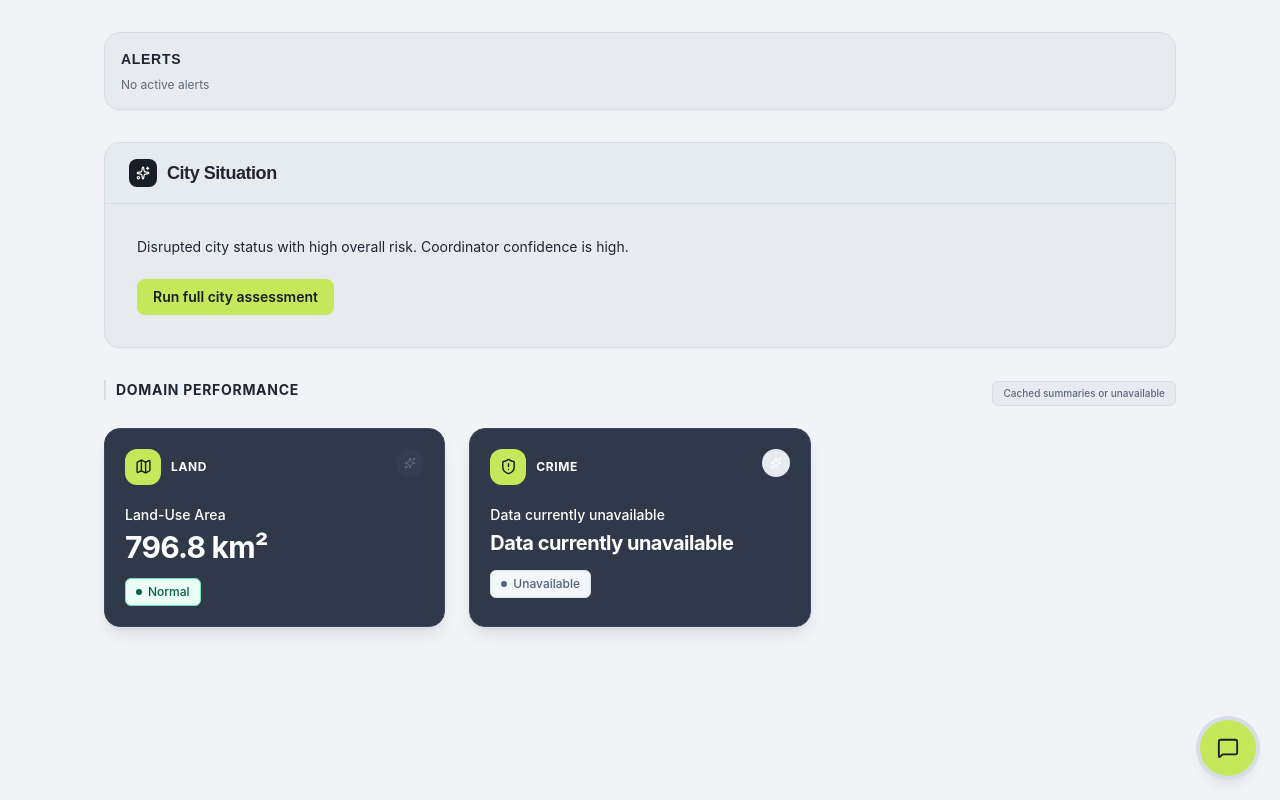
Test: on-demand city assessment › requests the full report and narrative only after explicit action
Expected: the text with test id "city-situation-narrative" is shown, [137,238,629,255]
What coordinates should you click on to do the following:
click the button with test id "request-city-report"
I would click on:
 (236, 297)
Its box is [137,279,334,315].
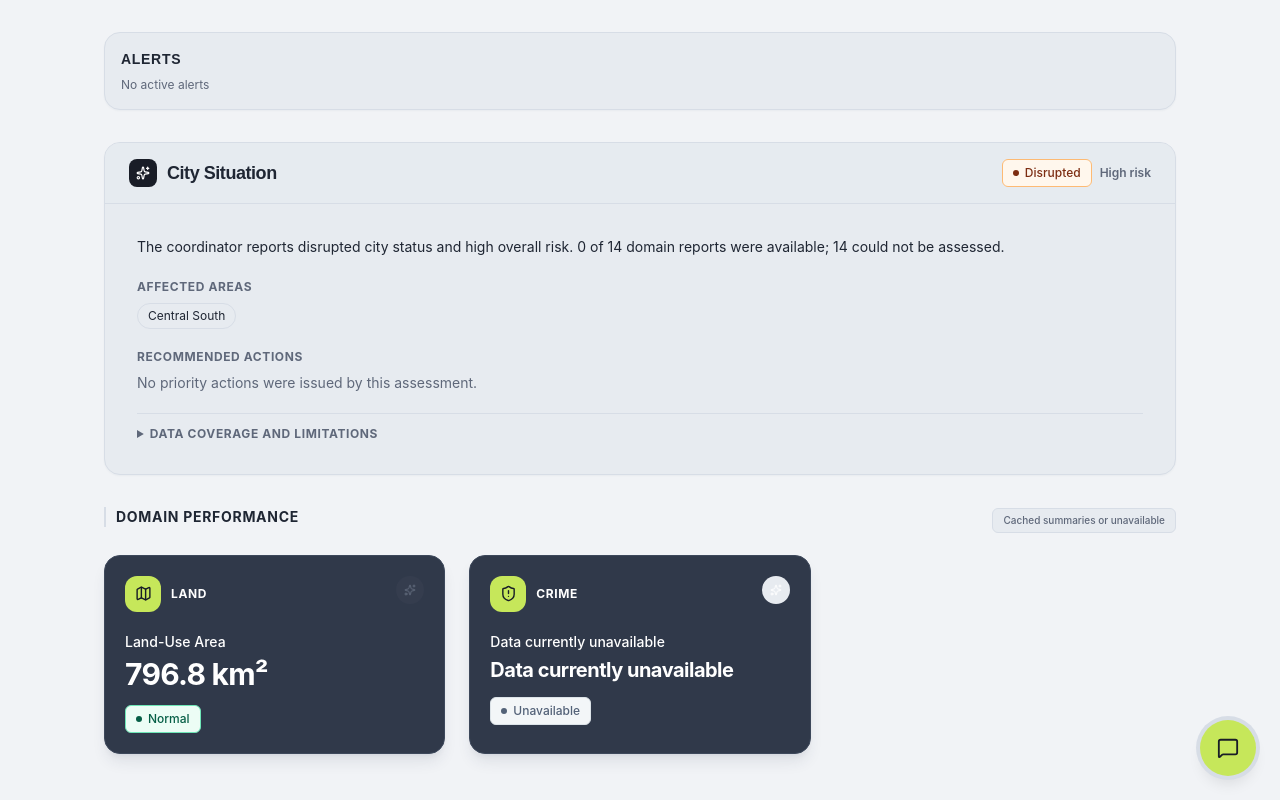
Expected: the text "Disrupted" is shown, [1002,159,1092,187]
